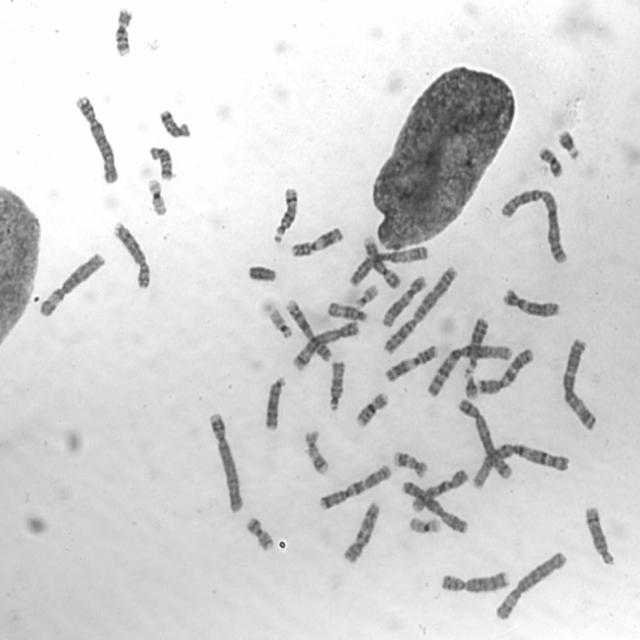A1: (471, 440, 572, 492), (425, 343, 514, 400)
A2: (382, 265, 458, 357), (500, 188, 573, 266)
A3: (348, 246, 430, 287), (562, 338, 598, 430)
B4: (73, 93, 121, 184), (207, 412, 245, 514)
B5: (456, 397, 514, 482), (291, 320, 361, 372)
C10: (410, 468, 469, 514), (343, 501, 380, 565)
C11: (383, 343, 438, 385), (290, 224, 346, 257)
C12: (380, 274, 428, 328), (499, 288, 561, 319)
C6: (495, 552, 568, 624), (39, 250, 105, 319)
C7: (319, 464, 393, 512), (478, 347, 535, 395)
C8: (112, 220, 151, 288), (438, 569, 511, 595)
C9: (284, 298, 333, 363), (364, 234, 403, 290)
D13: (464, 315, 490, 374), (263, 375, 287, 431)
D14: (582, 502, 616, 568), (272, 186, 300, 244)
D15: (326, 301, 368, 323), (328, 359, 344, 414)
E16: (354, 393, 391, 430), (112, 5, 134, 59)
E17: (304, 427, 328, 477), (392, 449, 430, 479)
E18: (158, 108, 192, 138), (146, 145, 174, 180)
F19: (146, 176, 168, 217), (408, 514, 443, 535)
F20: (245, 515, 275, 551), (537, 146, 562, 178)
G21: (556, 126, 581, 160), (461, 372, 478, 401)
G22: (268, 308, 294, 339), (356, 284, 380, 310)
X: (401, 480, 468, 535)
Y: (247, 266, 278, 283)
